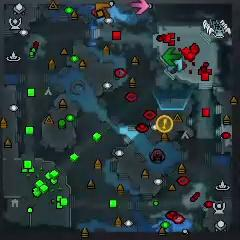Other: (156, 115, 173, 133)
x1: (130, 0, 150, 15)
x3: (166, 57, 183, 72)
x4: (162, 47, 181, 64)
x5: (95, 2, 111, 21)
